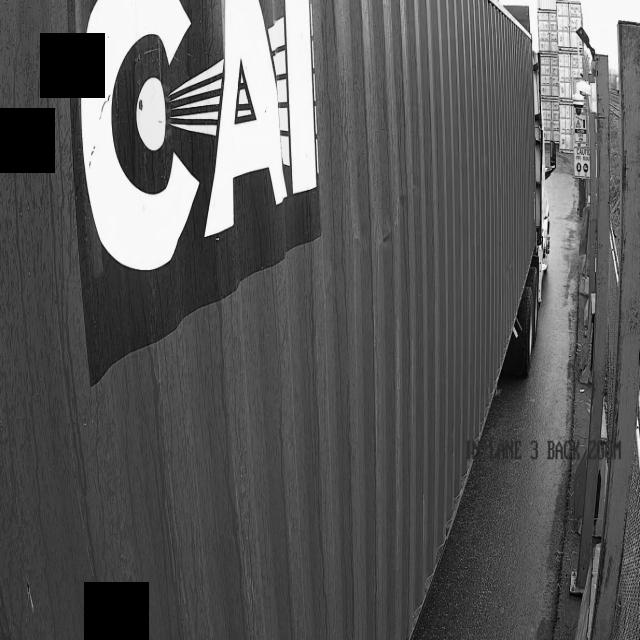container_company_logo: (56, 0, 398, 307)
truck_with_container: (0, 0, 547, 640)
